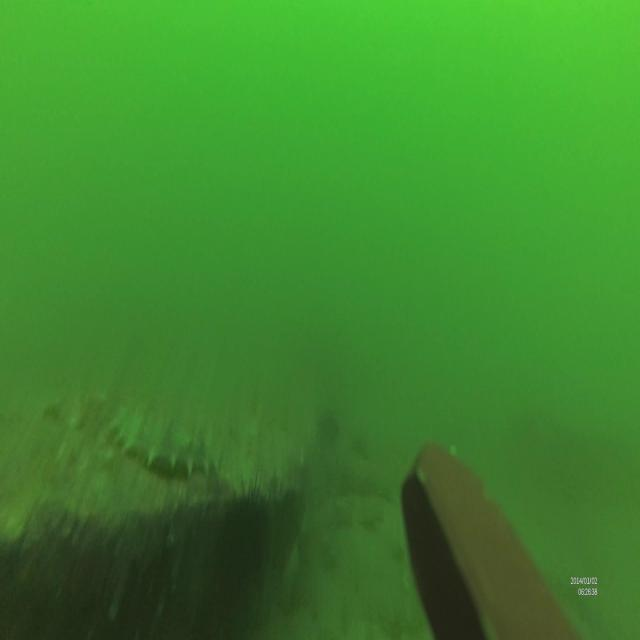holothurian: (104, 397, 222, 482)
